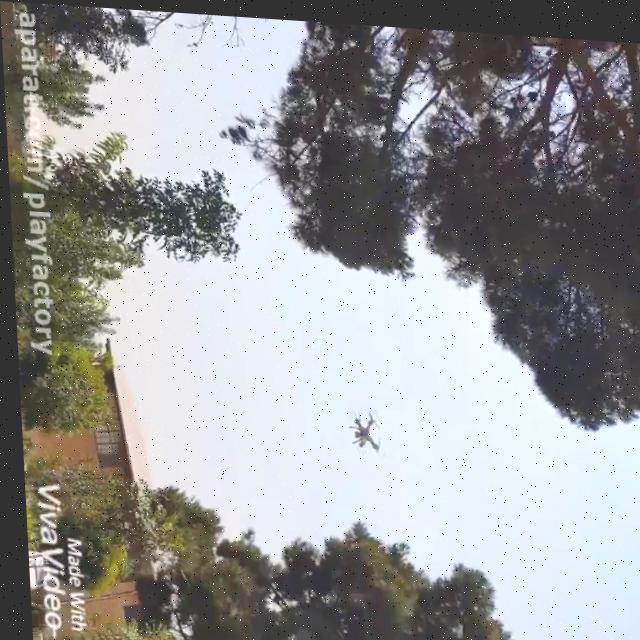drone: (342, 399, 388, 458)
